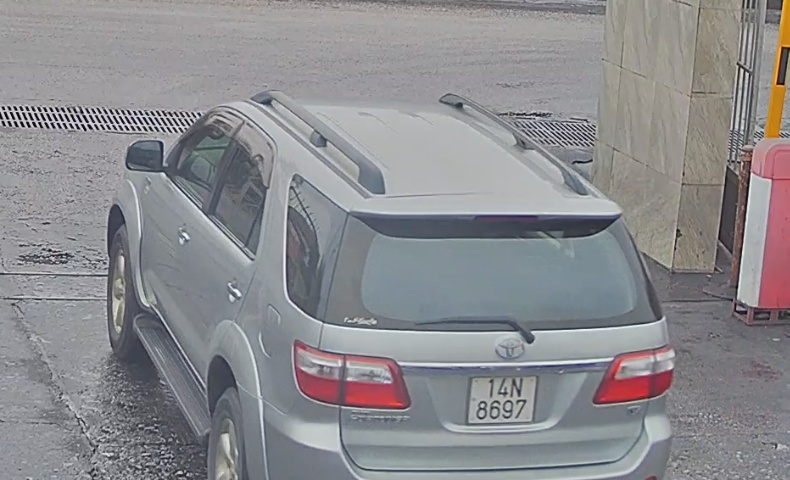vehicle plate: (464, 372, 540, 427)
